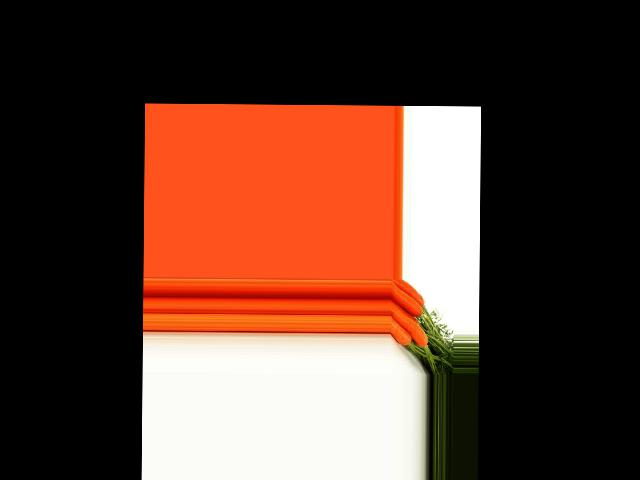carrot: (389, 317, 413, 345)
